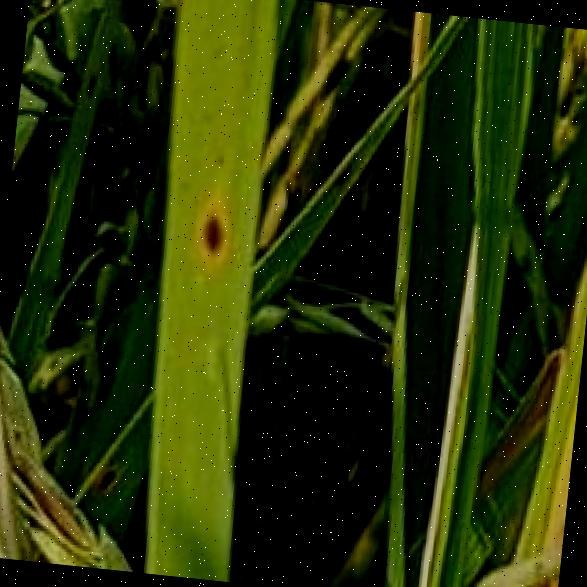Brown_Spot: (182, 180, 242, 271)
